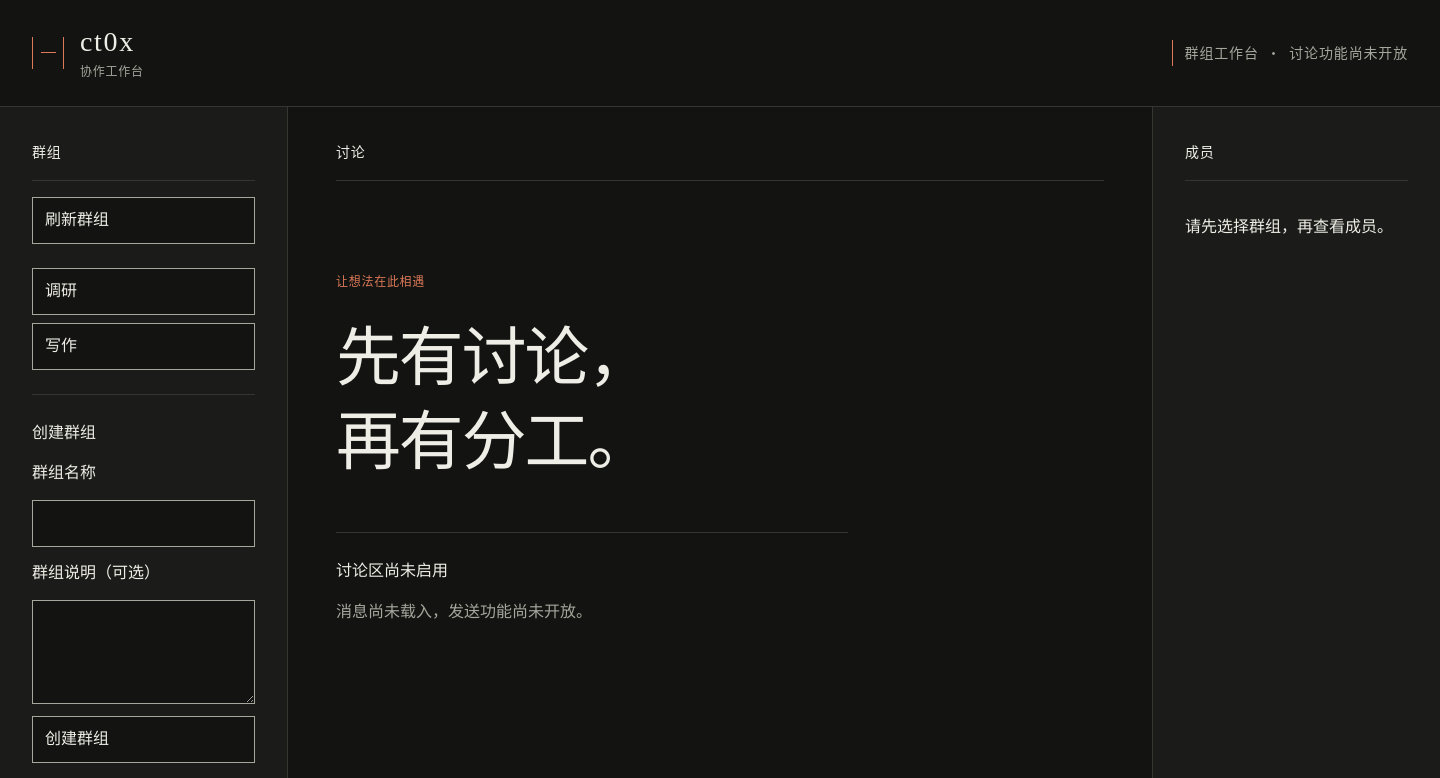
it: ignores delayed group A GET 200 after switching to B
This screenshot has width=1440, height=778.
Click the button "调研".
click(144, 291)  # box [32,268,255,315]
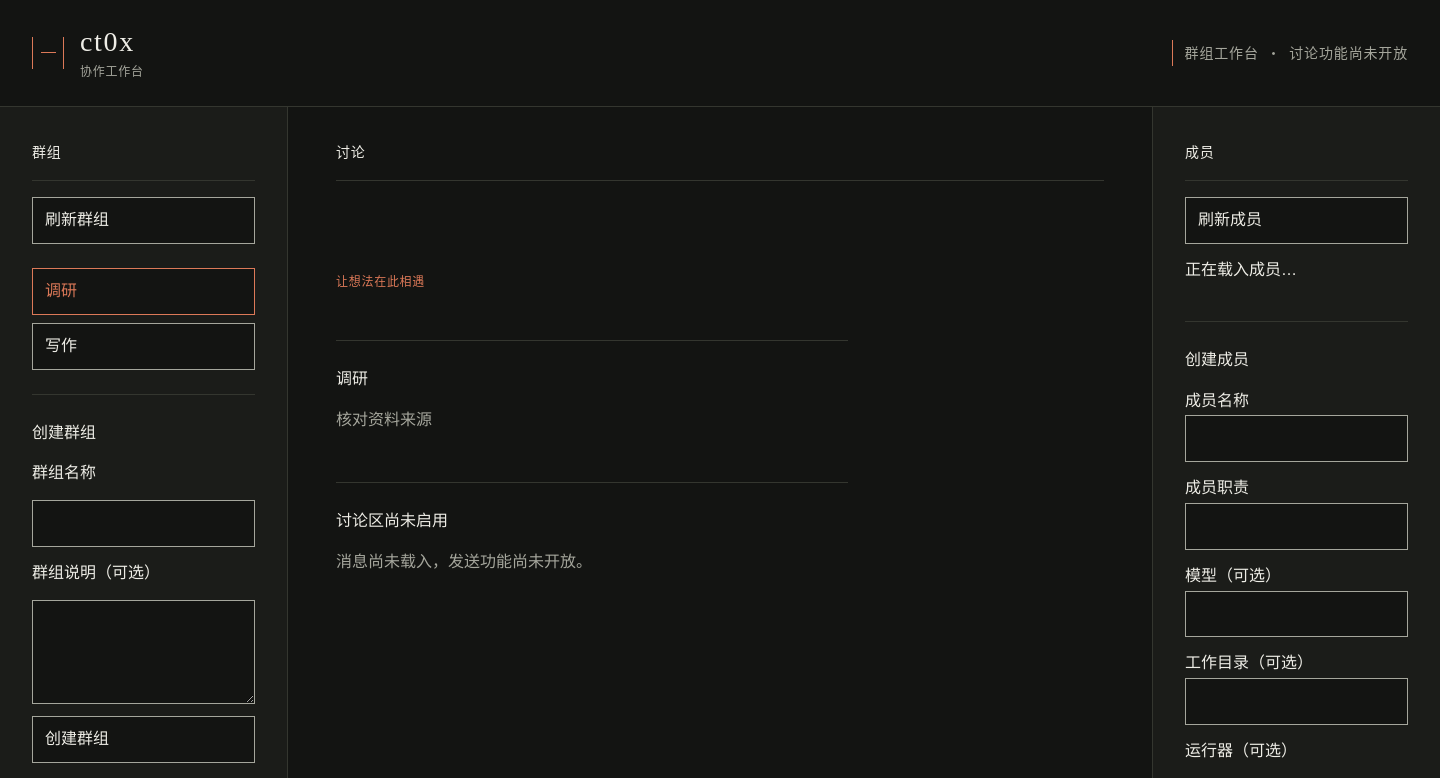
Check: the text "正在载入成员…" is shown, box [1185,261,1297,278]
Click the button "写作".
click(144, 346)  # box [32,323,255,370]
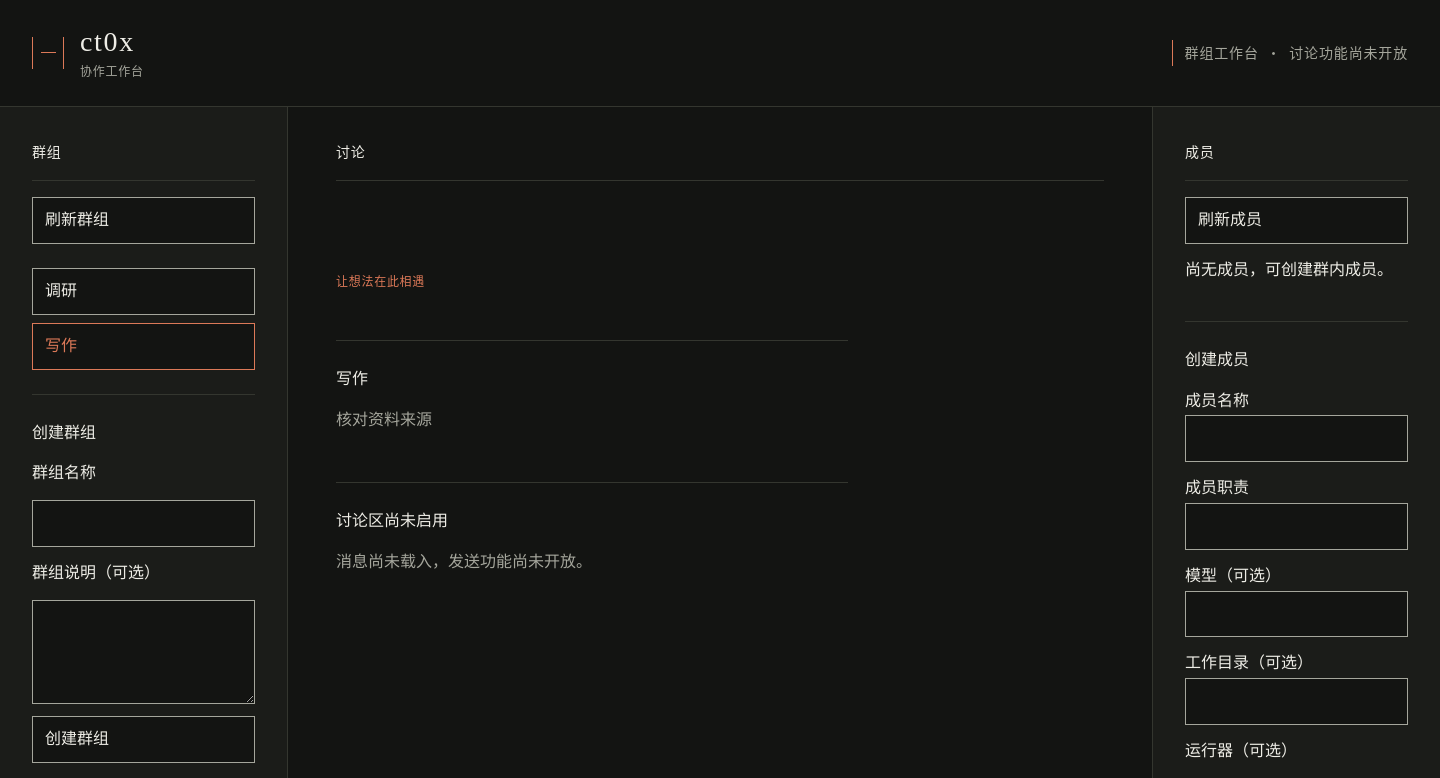
Check: the field labelled "成员名称" is empty, box [1185,415,1408,462]
Check: the text "尚无成员，可创建群内成员。" is shown, box [1185,261,1393,278]
Check: the message "正在载入成员…" is gone
